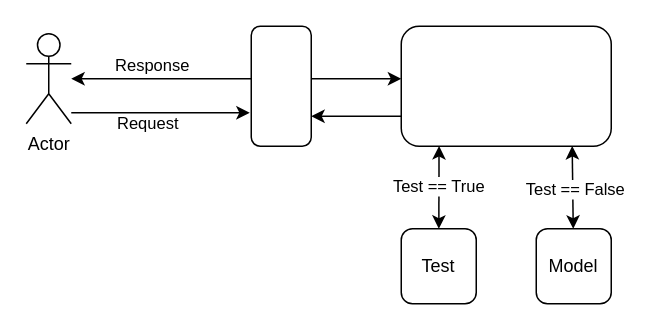
Image size: 651x330. Some labels were removed from this diagram. The centre of each missing label's shape, as x and y in pixels:
API: (x=280, y=85)
Model Predict: (x=505, y=85)
